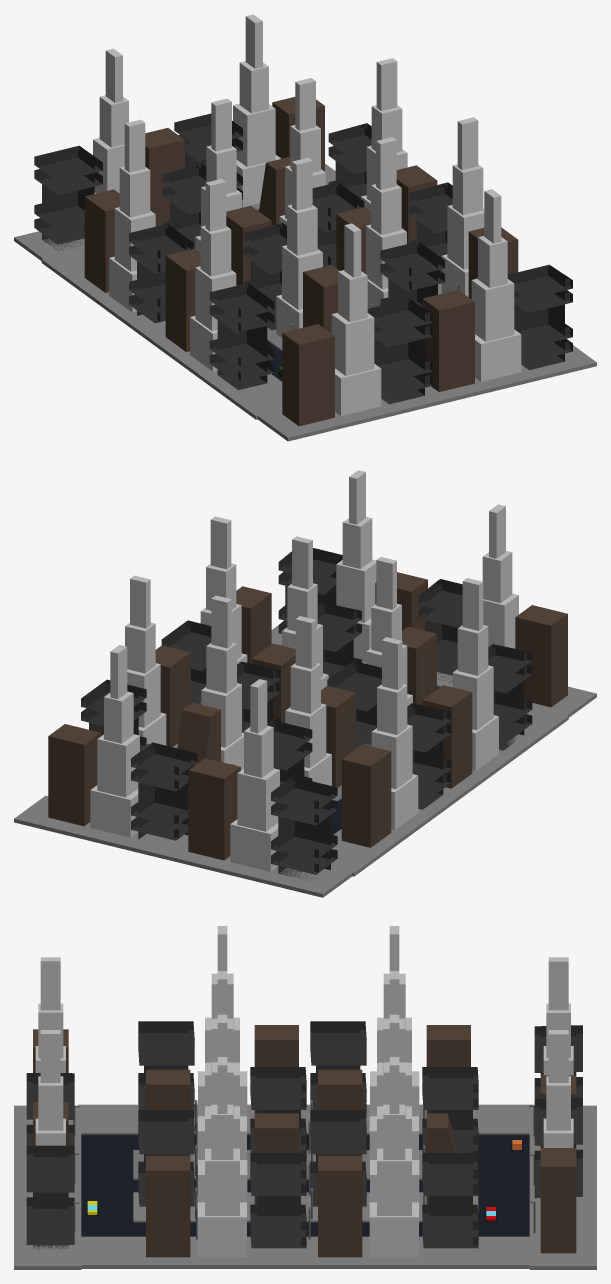
File: skreets.glb
The picture shows the model from 3 angles, top to bottom: view 1: azimuth 30°, elevation 25°; view 2: azimuth 150°, elevation 25°; view 3: azimuth 270°, elevation 25°; orthographic projection. The views are drawn at different scales.
Parts seen in each view (by area): view 1: Cube.060, Cube.057, Cube.023, Cube.051, Cube.008, Cube.059, Cube.056, Cube.053, Cube.013, Cube.058, Cube.021, Cube.024 (+27 smaller); view 2: Cube.054, Cube.051, Cube.014, Cube.053, Cube.024, Cube.021, Cube.050, Cube.008, Cube.022, Cube.060, Cube.052, Cube.055 (+27 smaller); view 3: Cube, Cube.011, Cube.027, Cube.030, Cube.026, Cube.029, Cube.059, Cube.014, Cube.028, Cube.031, Cube.013, Cube.008 (+28 smaller).
Boxes of the visible parts, x1,y1,x2,y2 form: Cube.060: [471, 189, 521, 381]; Cube.057: [331, 223, 381, 415]; Cube.023: [209, 283, 274, 390]; Cube.051: [233, 14, 281, 207]; Cube.008: [41, 249, 282, 419]; Cube.059: [507, 264, 572, 370]; Cube.056: [367, 299, 432, 404]; Cube.053: [34, 145, 102, 251]; Cube.013: [256, 345, 596, 441]; Cube.058: [282, 324, 334, 426]; Cube.021: [109, 119, 155, 312]; Cube.024: [190, 178, 236, 371]; Cube.054: [230, 679, 279, 871]; Cube.051: [90, 645, 139, 837]; Cube.014: [14, 795, 353, 897]; Cube.053: [271, 776, 337, 880]; Cube.024: [452, 578, 498, 770]; Cube.021: [371, 637, 418, 829]; Cube.050: [131, 742, 197, 840]; Cube.008: [331, 708, 568, 876]; Cube.022: [341, 744, 391, 847]; Cube.060: [336, 470, 376, 662]; Cube.052: [48, 724, 100, 826]; Cube.055: [188, 758, 240, 860]; Cube: [81, 1134, 529, 1236]; Cube.011: [78, 1236, 534, 1268]; Cube.027: [197, 1057, 246, 1257]; Cube.030: [369, 1057, 418, 1257]; Cube.026: [250, 1153, 306, 1248]; Cube.029: [422, 1153, 478, 1248]; Cube.059: [26, 1145, 74, 1250]; Cube.014: [529, 1105, 596, 1269]; Cube.028: [146, 1155, 190, 1257]; Cube.031: [318, 1155, 362, 1257]; Cube.013: [14, 1105, 81, 1269]; Cube.008: [78, 1104, 533, 1134].
Bounding box in the file's own units: 93.66 × 52.2 × 143.
